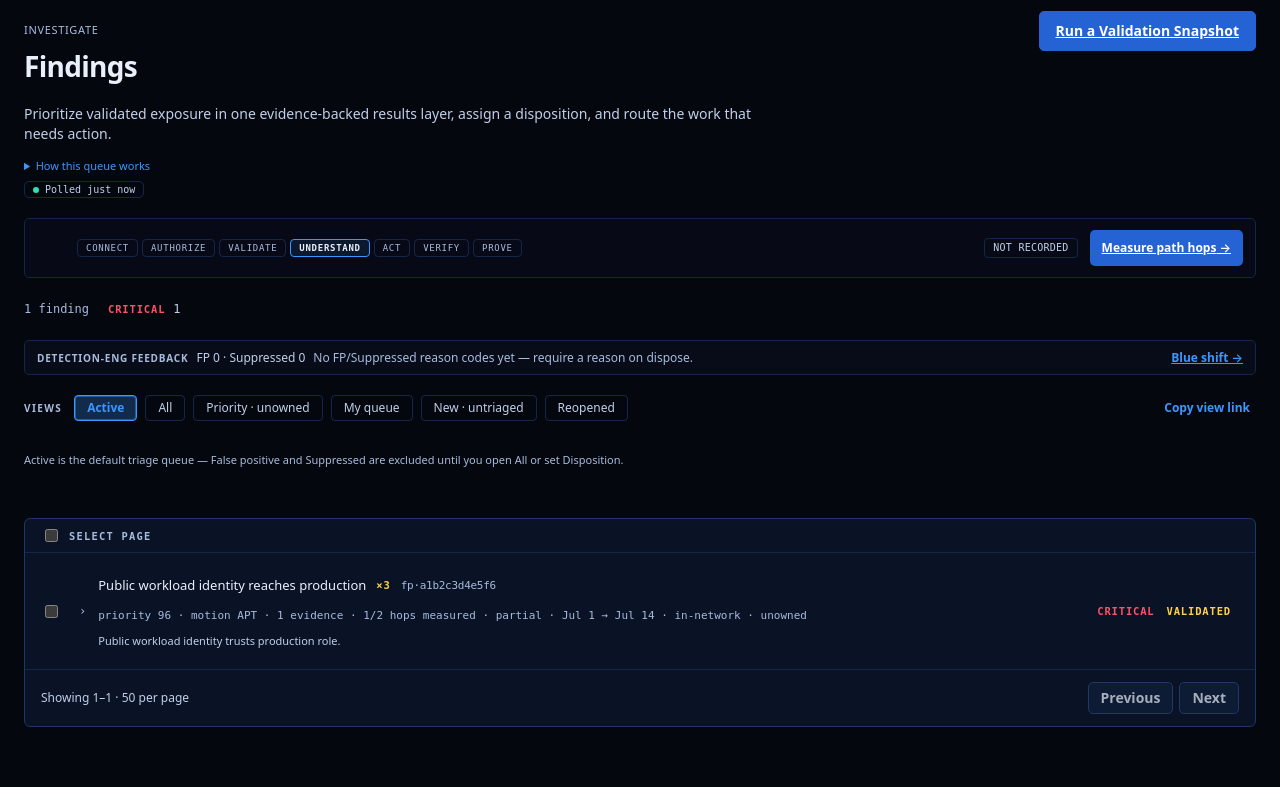
Test: FindingsWorkbench v2 › requires reasonCode for FalsePositive single and bulk after B6
This screenshot has width=1280, height=787.
Click the button with aria-label "Expand finding: Public workload identity reaches production": (656, 611) top-left (73, 562), bottom-right (1239, 660)
(page scrolled)
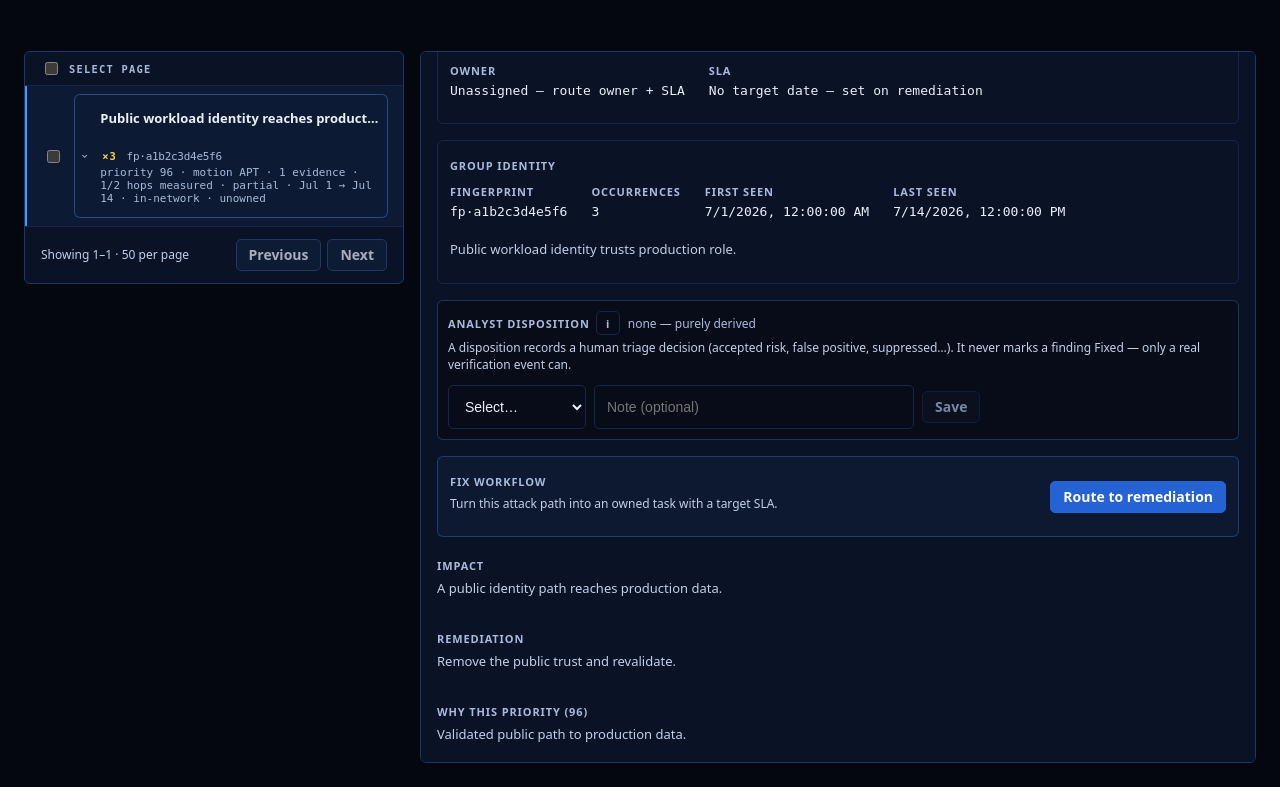
Select "False positive" in the dropdown named "Disposition": (517, 407) top-left (448, 385), bottom-right (586, 429)
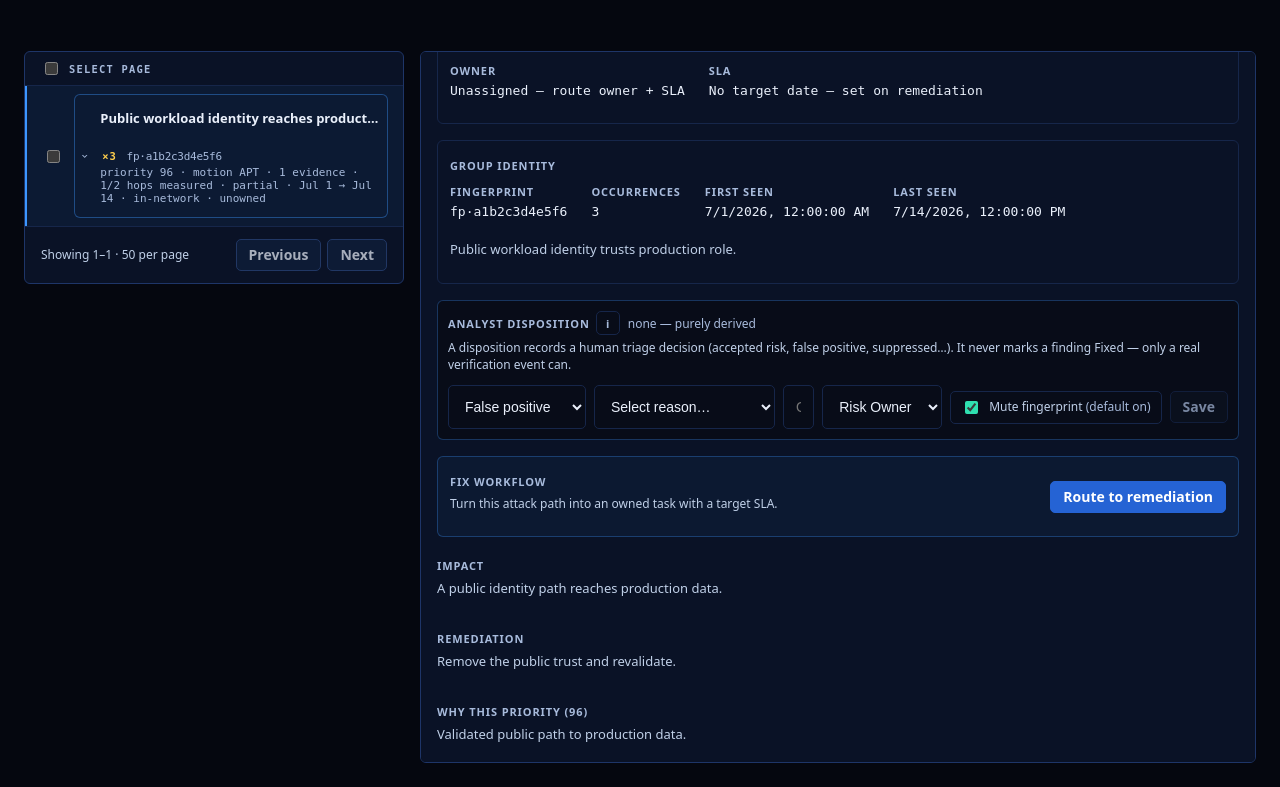
Now the button "Save" is disabled, box top-left (1170, 391), bottom-right (1228, 423)
Now the dropdown named "Disposition reason code" is shown, box top-left (594, 385), bottom-right (775, 429)
Click the checkbox named "Select Public workload identity reaches production": (54, 156) top-left (47, 150), bottom-right (60, 163)
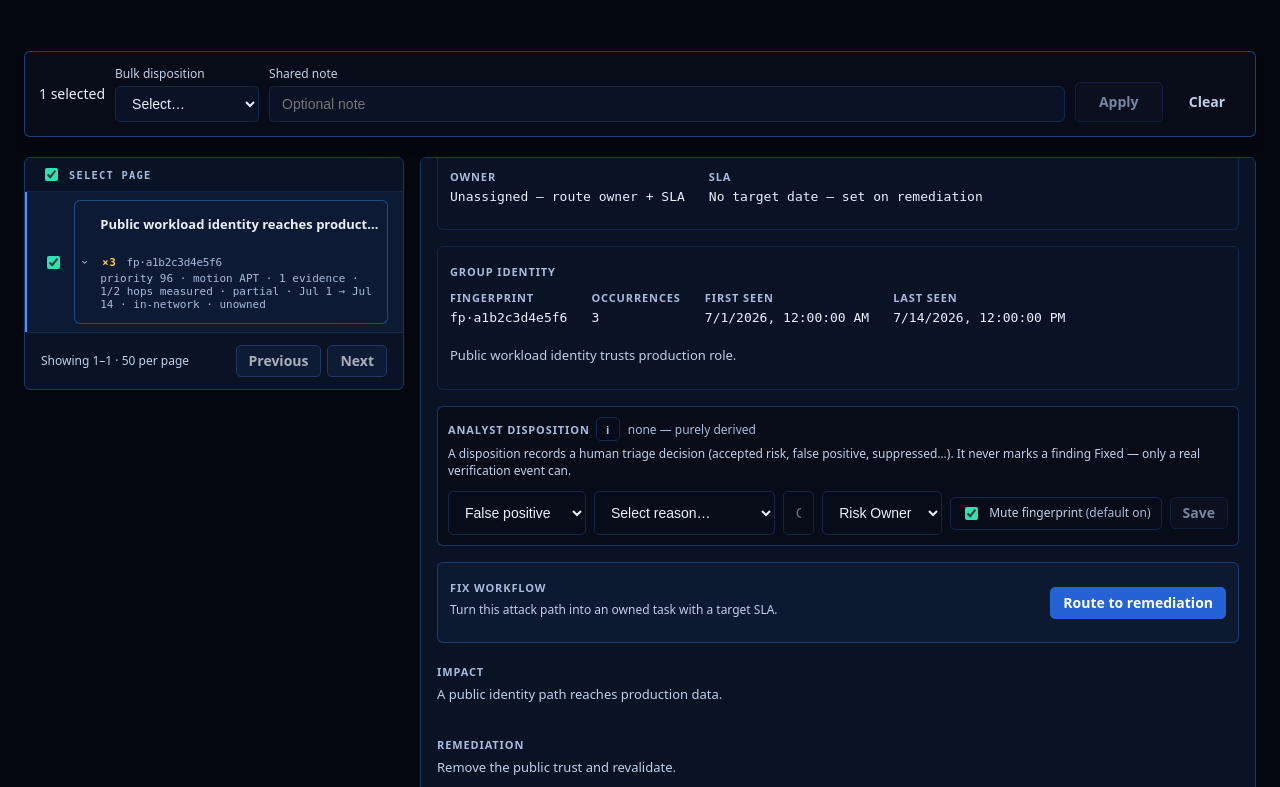
Select "False positive" in the dropdown labelled "Bulk disposition": (187, 104) top-left (115, 86), bottom-right (259, 122)
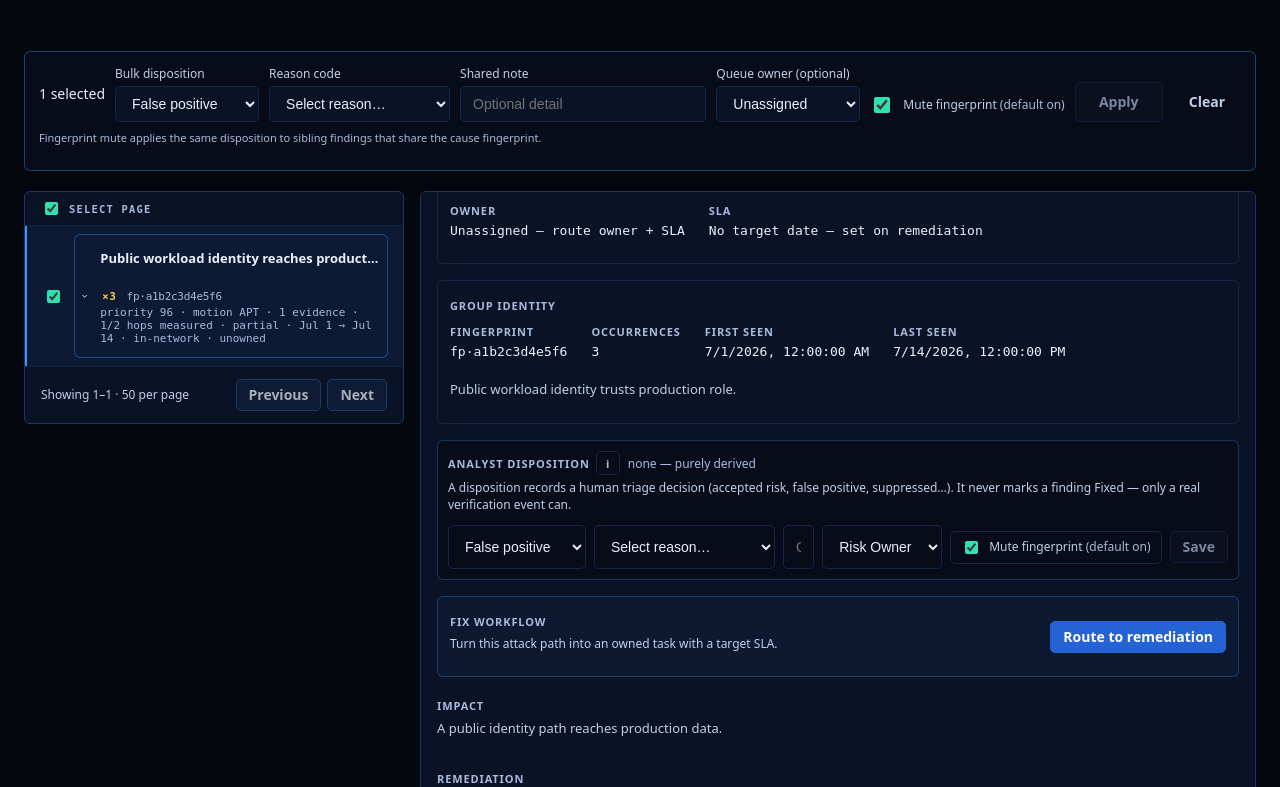
Now the button "Apply" is disabled, box top-left (1075, 82), bottom-right (1163, 122)
Now the dropdown named "Bulk disposition reason code" is shown, box top-left (269, 86), bottom-right (450, 122)
